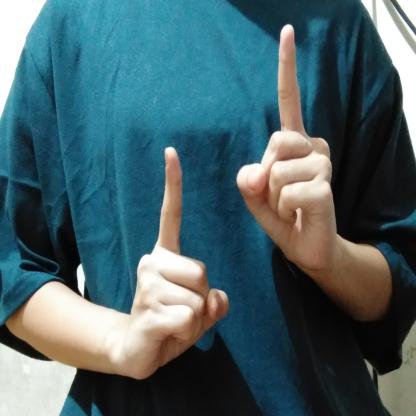morning: (122, 19, 342, 393)
